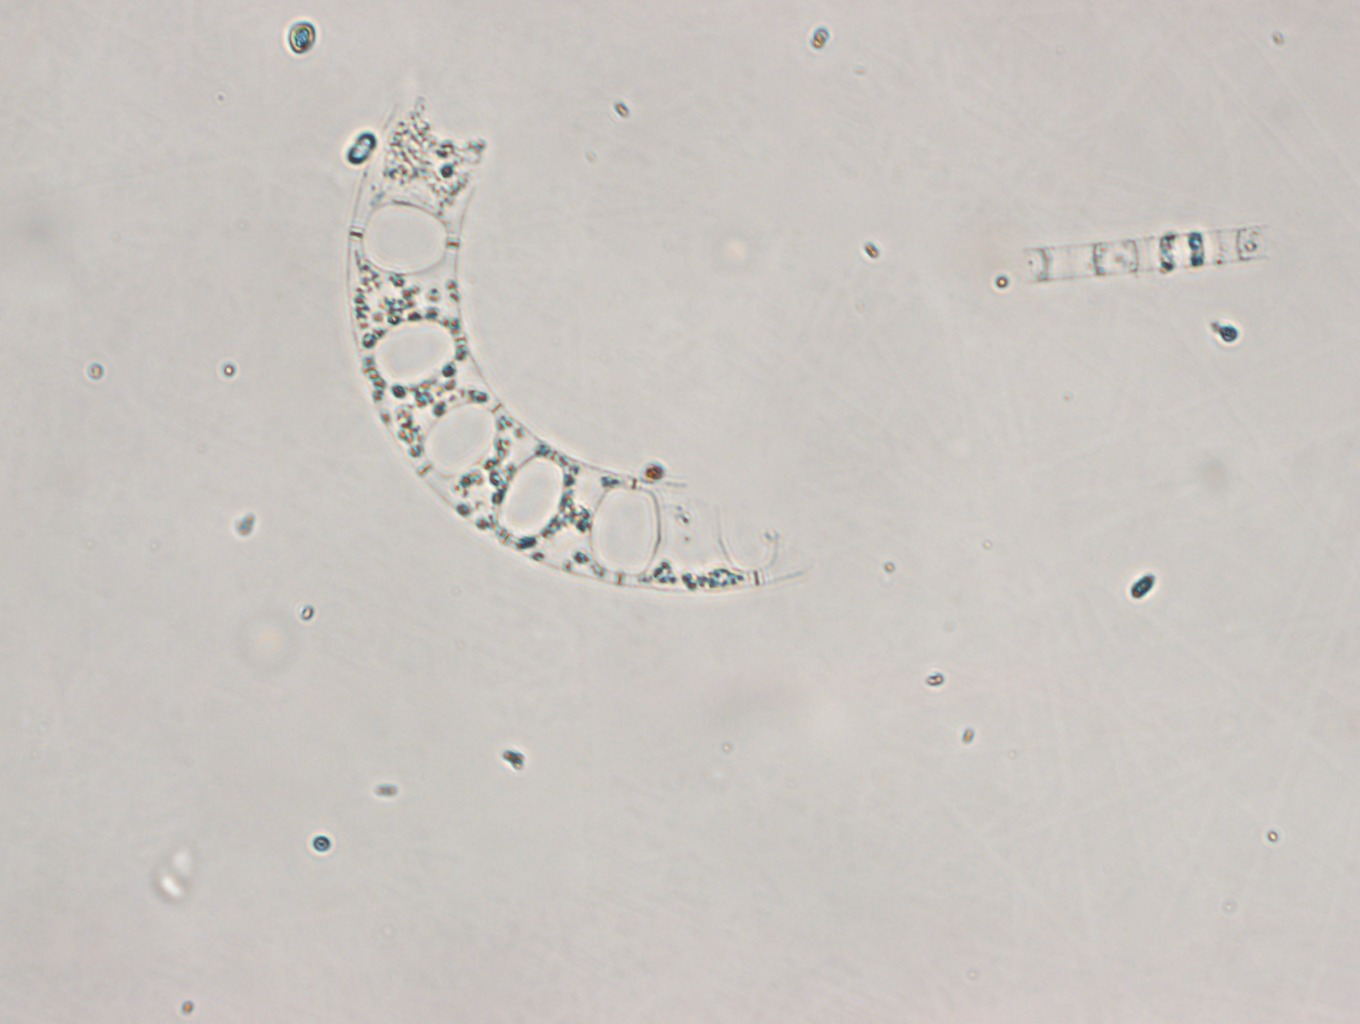eucampia: (345, 94, 818, 592)
skeletonema: (1019, 221, 1273, 284)
